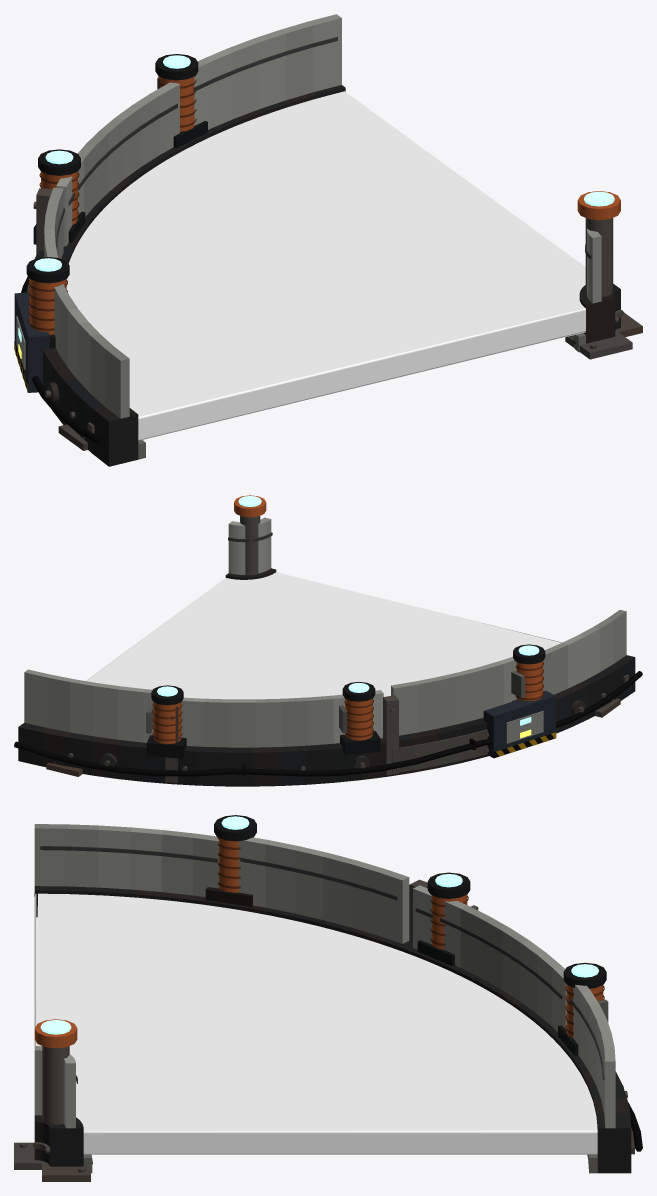
The model's file is conveyor_mag_turn_right.glb.
3 renders of one model, top to bottom at view 1: azimuth 30°, elevation 25°; view 2: azimuth 150°, elevation 25°; view 3: azimuth 270°, elevation 25°, orthographic. The views are drawn at different scales.
Visible parts, largest first — view 1: Belt, Frame, Glow; view 2: Frame, Belt, Glow; view 3: Belt, Frame, Glow.
Boxes of the visible parts, left/top/right/bottom form: Belt: left=66, top=91, right=585, bottom=440; Frame: left=14, top=14, right=642, bottom=466; Glow: left=18, top=55, right=614, bottom=342; Frame: left=14, top=495, right=642, bottom=786; Belt: left=86, top=572, right=562, bottom=699; Glow: left=157, top=496, right=539, bottom=725; Belt: left=34, top=893, right=597, bottom=1154; Frame: left=14, top=815, right=642, bottom=1181; Glow: left=40, top=816, right=598, bottom=1034.
Size of the model in its own units: 2.06 by 0.497 by 2.06.
